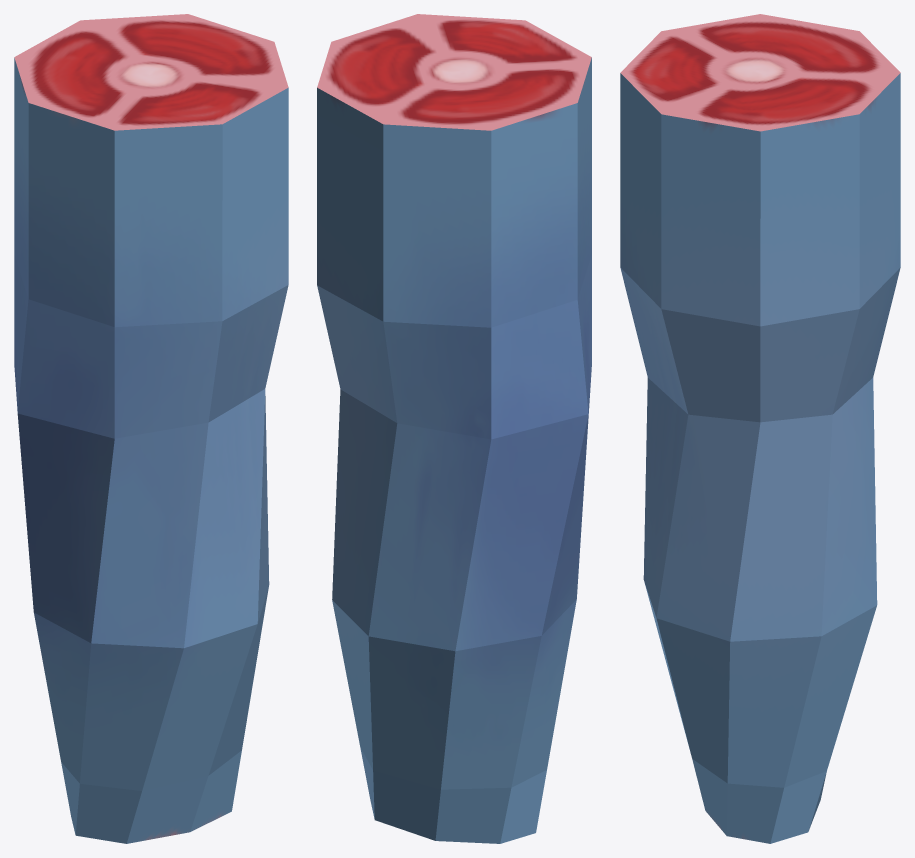
Rendered from ING_Elbow_v03 (1).fbx.
3 renders of one model, left to right at view 1: azimuth 30°, elevation 25°; view 2: azimuth 150°, elevation 25°; view 3: azimuth 270°, elevation 25°, orthographic.
Visible parts, largest first — view 1: Arm_Elbow; view 2: Arm_Elbow; view 3: Arm_Elbow.
Part boxes in pixels (x1,y1,x2,y2): Arm_Elbow: (14, 14, 288, 843); Arm_Elbow: (317, 14, 591, 843); Arm_Elbow: (620, 14, 900, 843).
Bounding box in the file's own units: 18.11 × 50.07 × 17.34.
